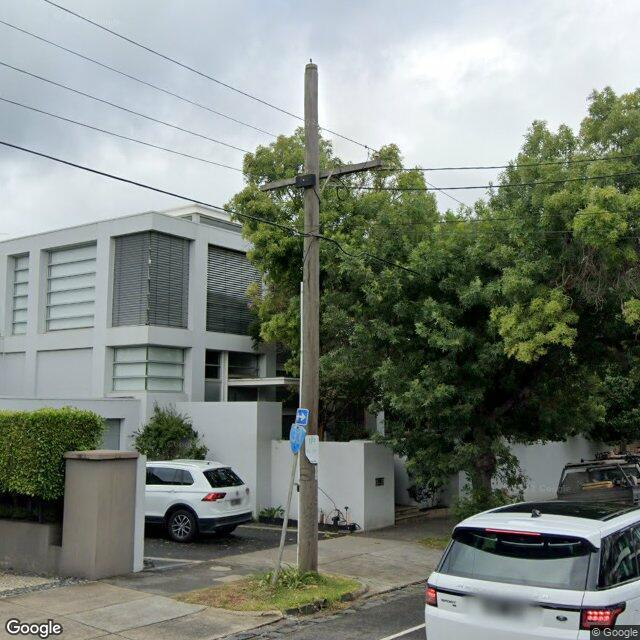crossarm: (259, 152, 382, 192)
timber-pole: (295, 63, 319, 576)
